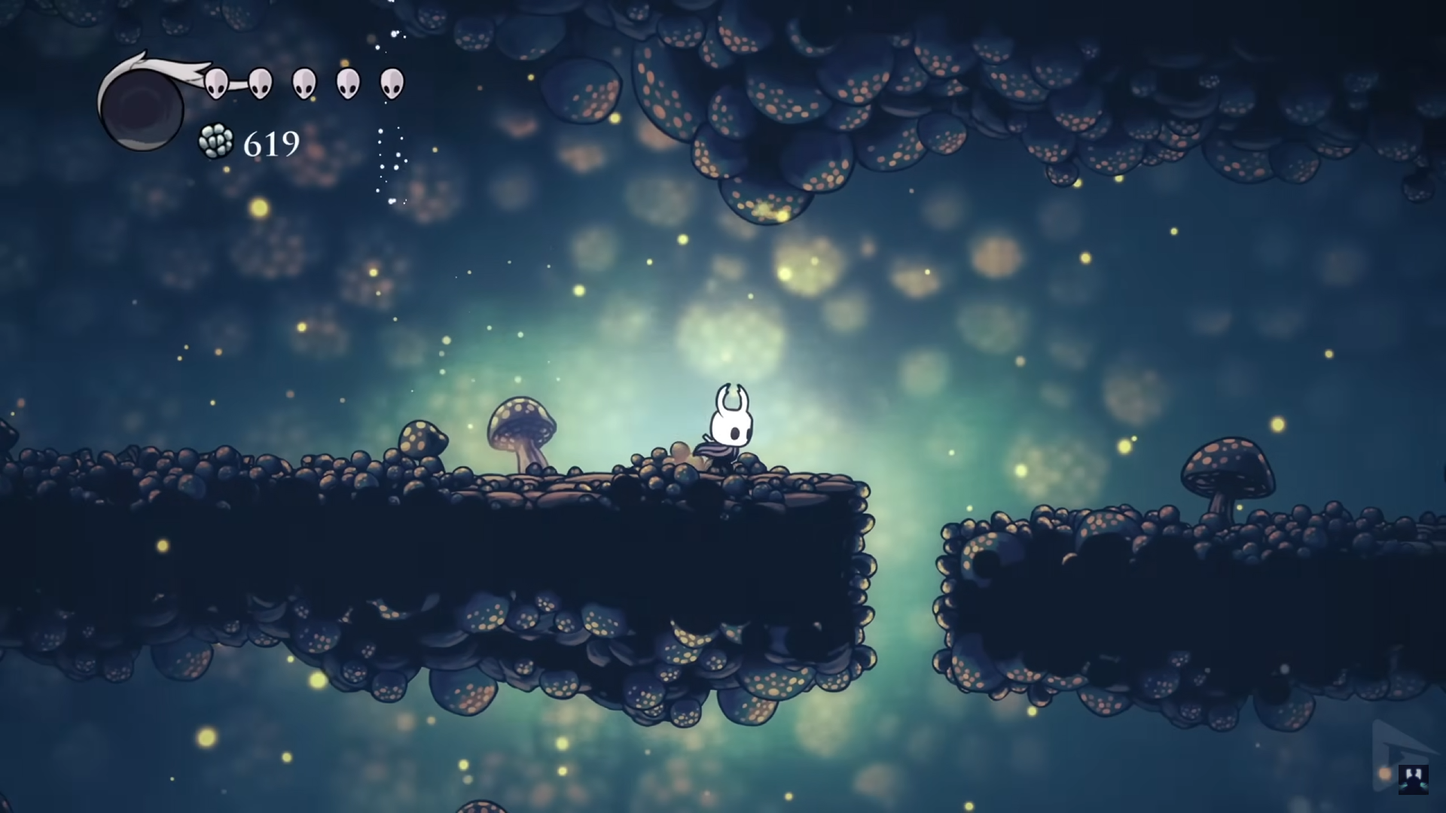HK: (697, 379, 761, 474)
